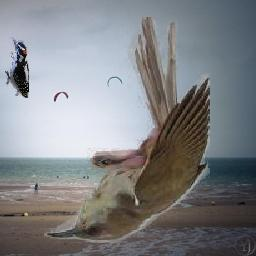Cuckoo: (44, 17, 210, 243)
Woodpecker: (5, 38, 29, 99)
